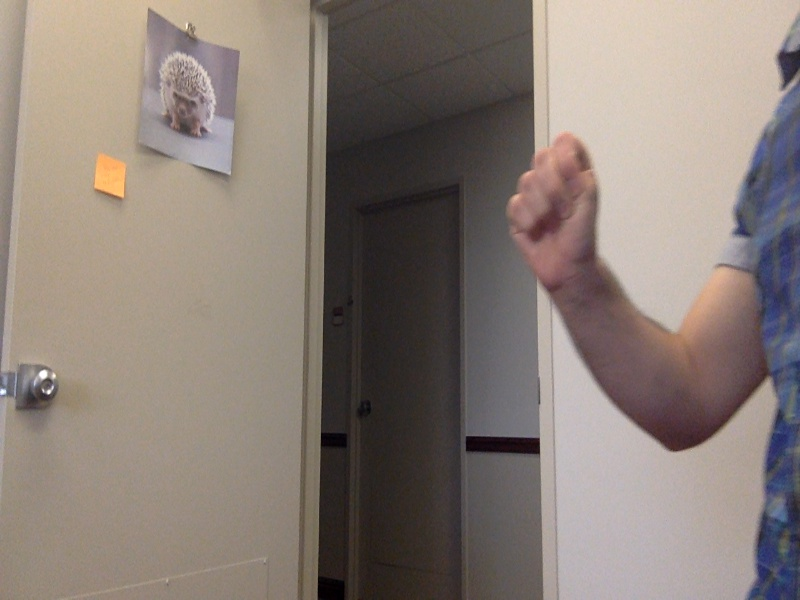0-hand: (498, 130, 607, 292)
